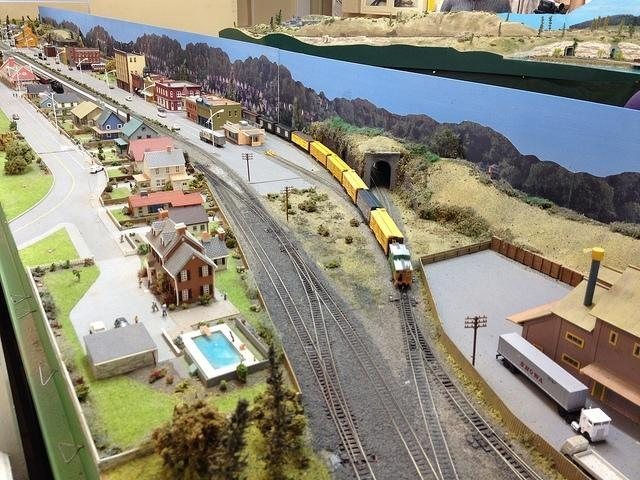truck: (496, 331, 610, 443)
